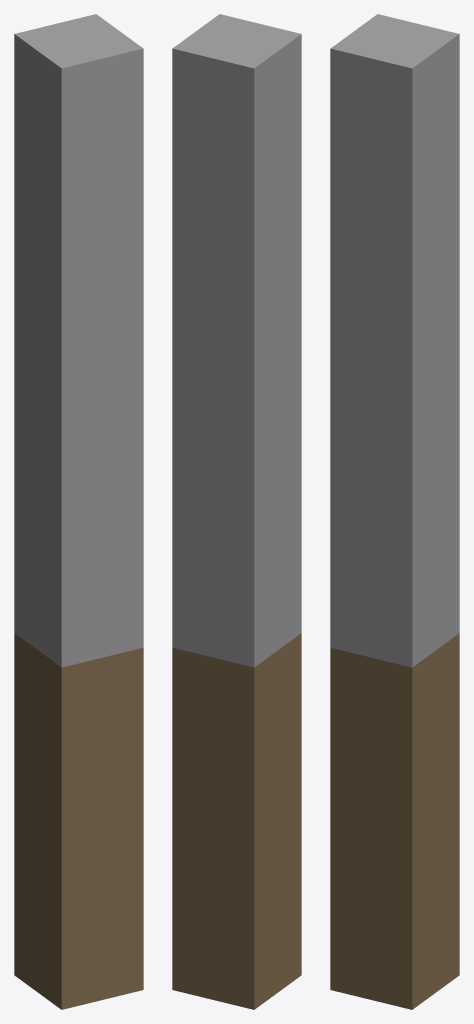
The model's file is cana_hierro_reforzada_01.glb.
The picture shows the model from 3 angles, left to right: view 1: azimuth 30°, elevation 25°; view 2: azimuth 150°, elevation 25°; view 3: azimuth 330°, elevation 25°; orthographic projection.
Parts seen in each view (by area): view 1: cana_hierro_reforzada; view 2: cana_hierro_reforzada; view 3: cana_hierro_reforzada.
Boxes of the visible parts, x1,y1,x2,y2 form: cana_hierro_reforzada: [14, 14, 143, 1009]; cana_hierro_reforzada: [172, 14, 301, 1009]; cana_hierro_reforzada: [330, 14, 459, 1009].
Bounding box in the file's own units: 0.0833 × 0.9167 × 0.0833.
